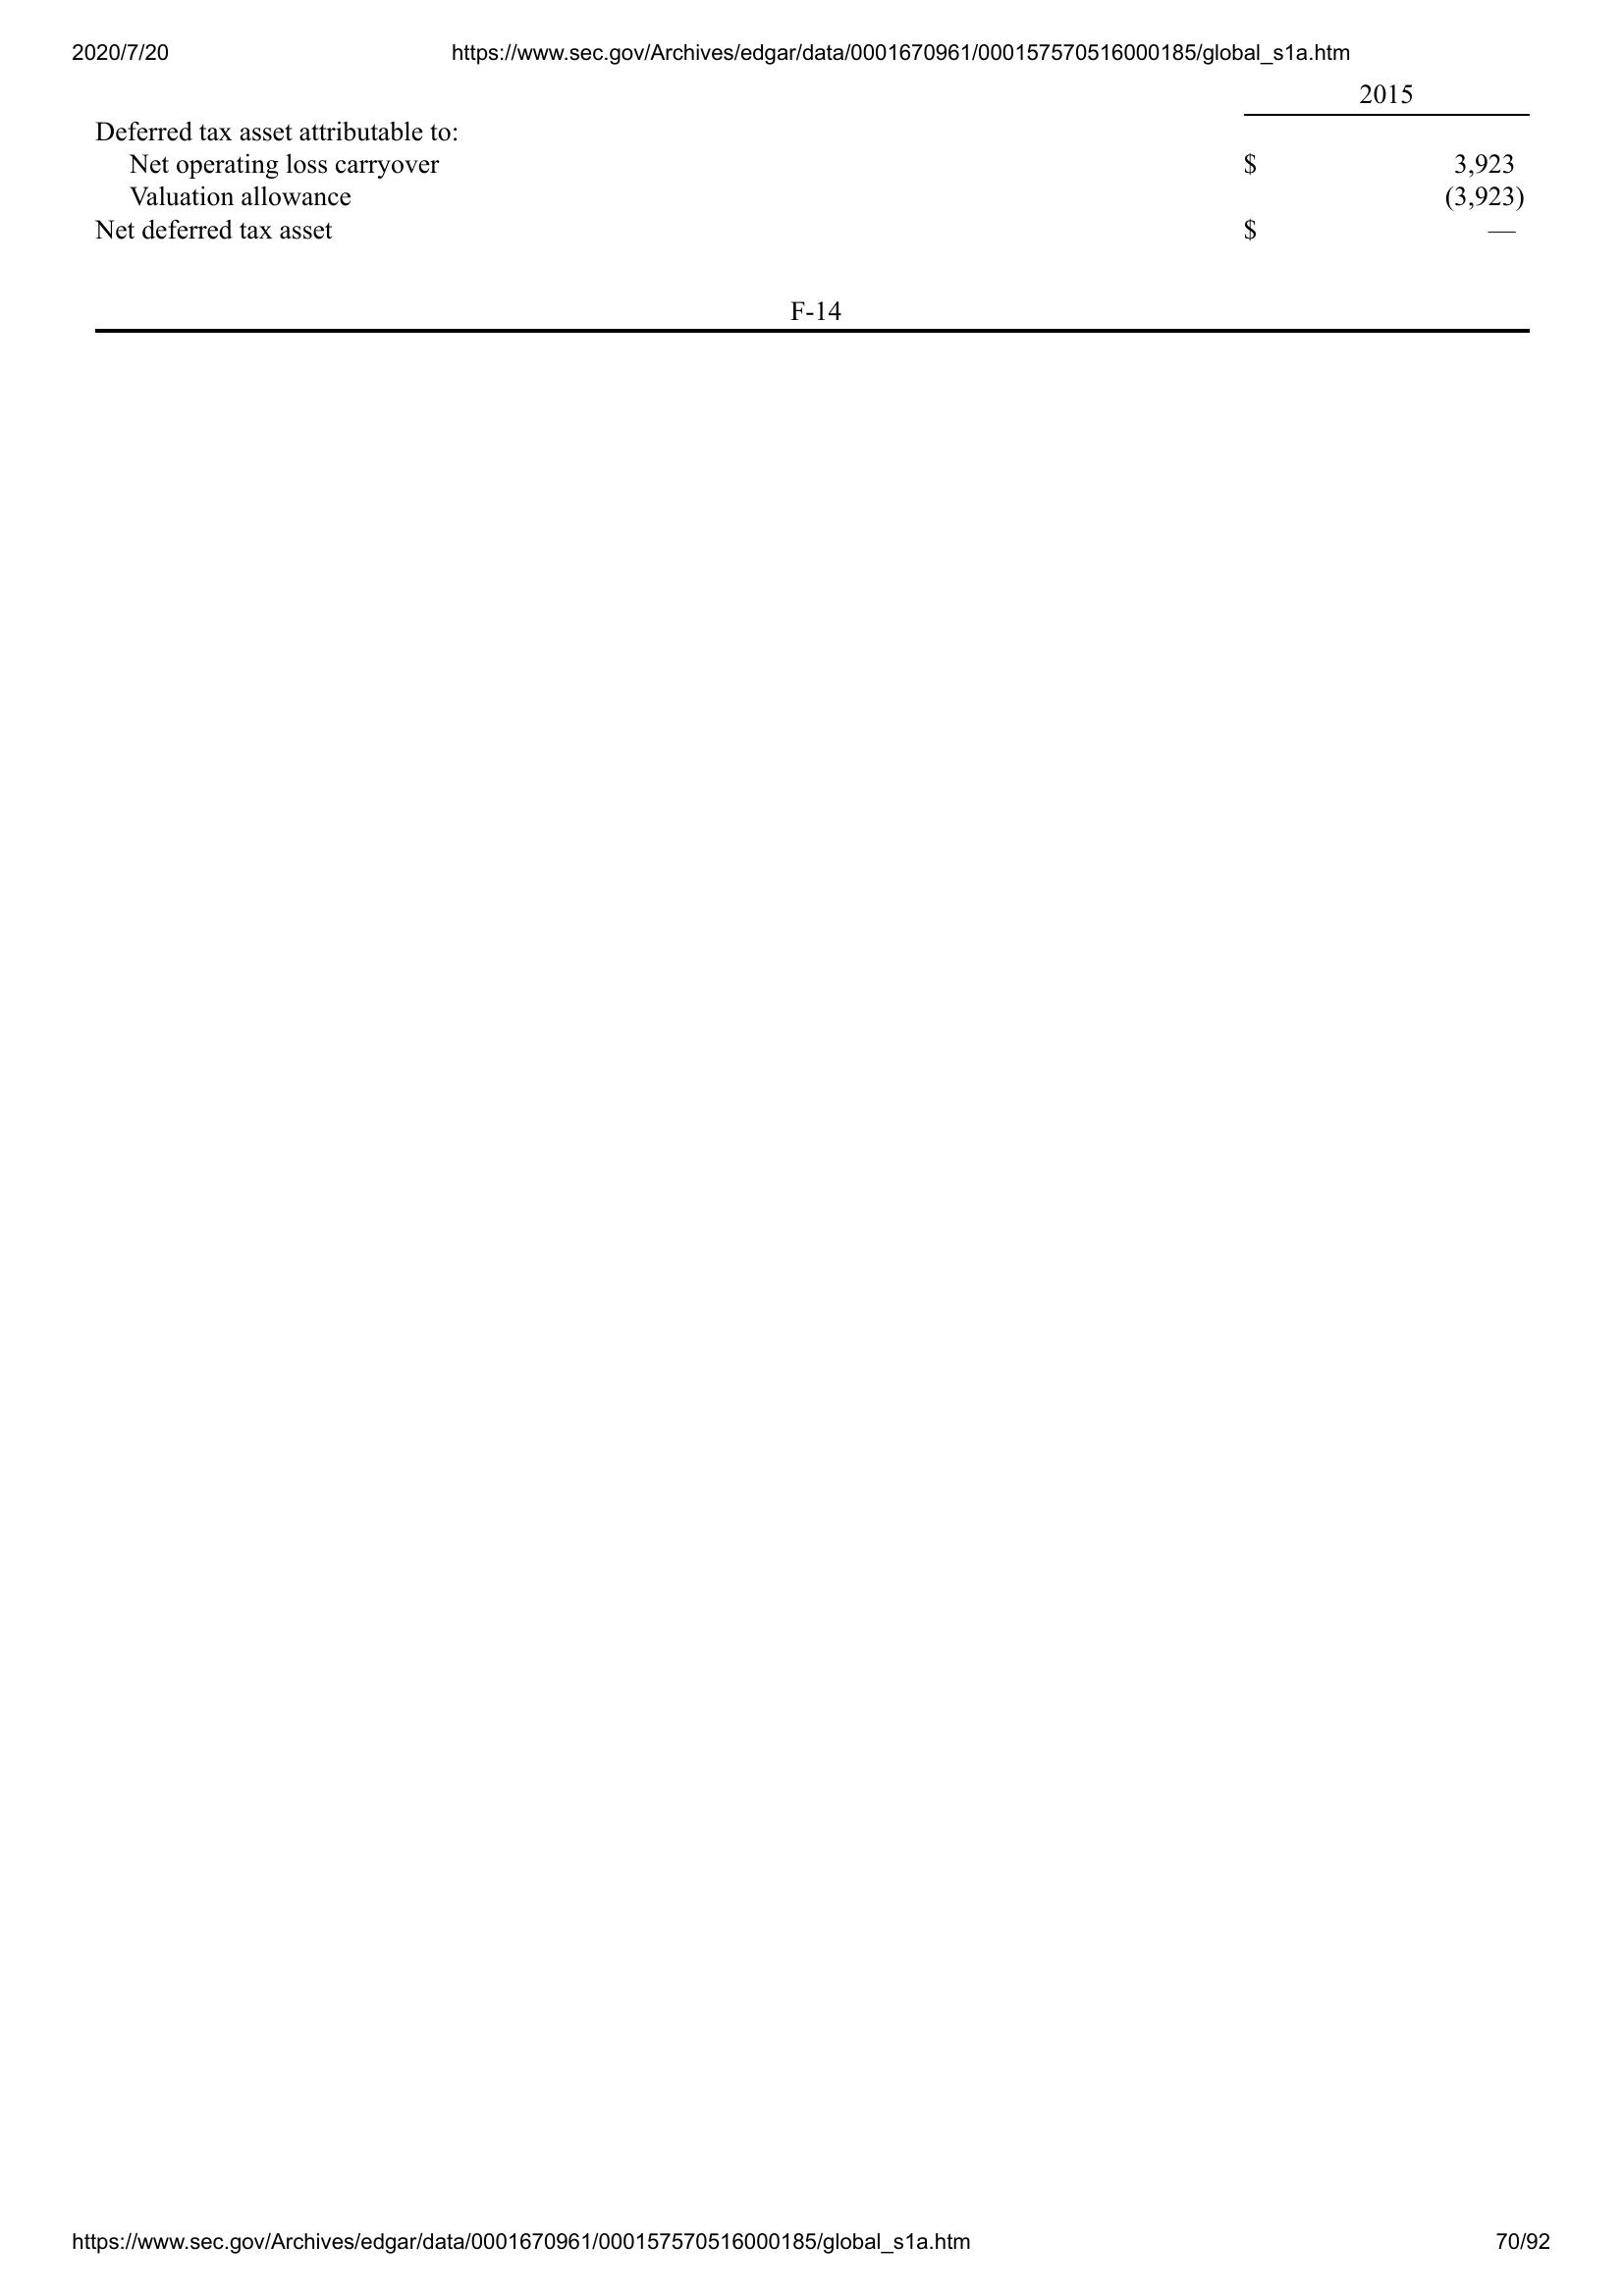table: (86, 84, 1539, 244)
